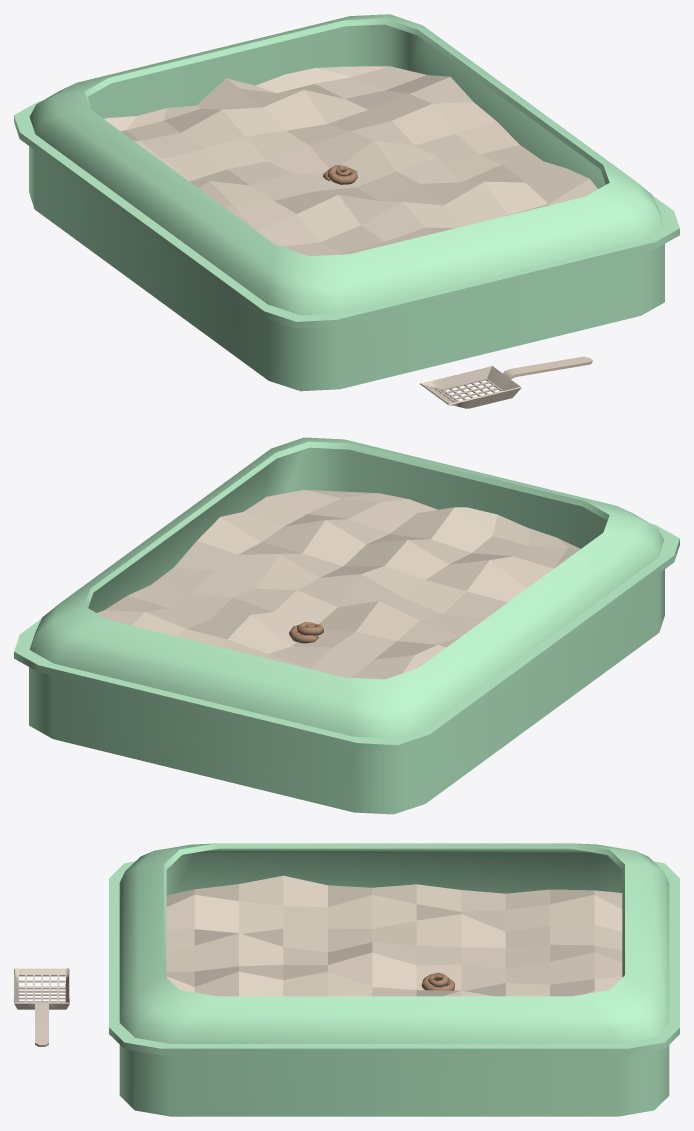
Rendered from LitterBox.fbx.
3 views of the same model, one above another, from view 1: azimuth 30°, elevation 25°; view 2: azimuth 150°, elevation 25°; view 3: azimuth 270°, elevation 25° (orthographic). The views are drawn at different scales.
Visible parts, largest first — view 1: Litter_Box, Litter, Shovel; view 2: Litter_Box, Litter, Poo; view 3: Litter_Box, Litter, Shovel, Poo.
Part boxes in pixels (<box>): Litter_Box: <box>14,14,679,391</box>; Litter: <box>104,66,597,255</box>; Shovel: <box>420,356,592,408</box>; Litter_Box: <box>14,437,679,814</box>; Litter: <box>97,490,580,679</box>; Poo: <box>289,622,323,643</box>; Litter_Box: <box>109,843,679,1116</box>; Litter: <box>166,875,622,996</box>; Shovel: <box>14,968,69,1046</box>; Poo: <box>421,972,454,990</box>.
Bounding box in the file's own units: 125 × 32.04 × 183.
